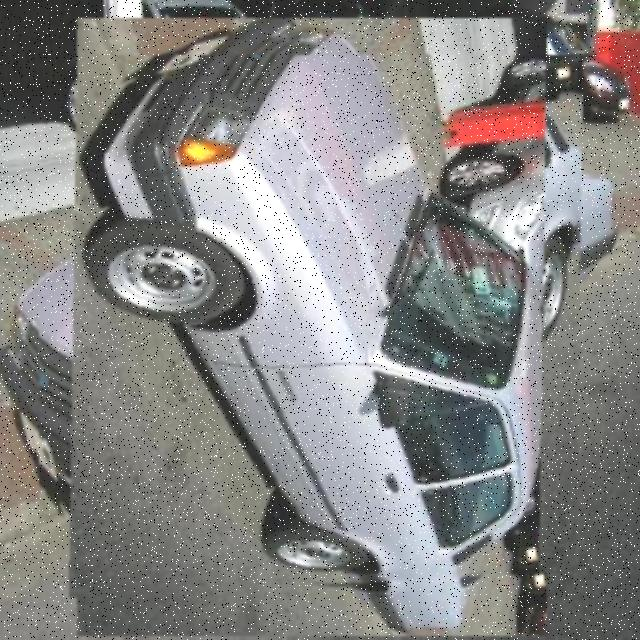car: (40, 56, 585, 601)
